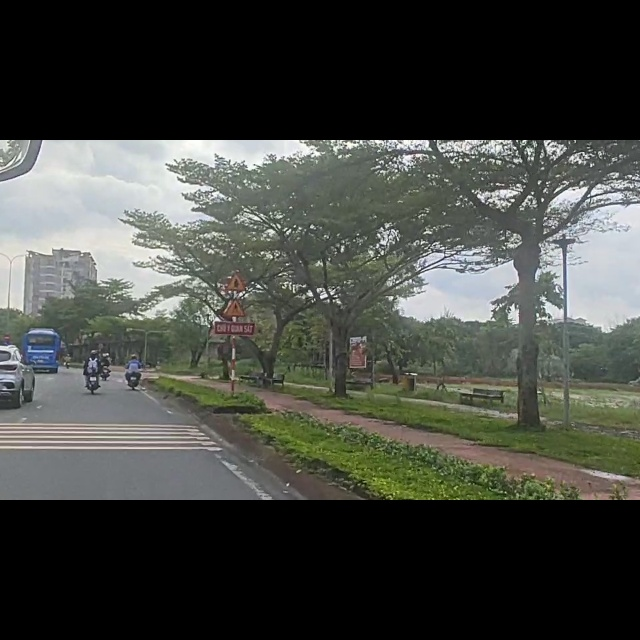bien_nguy_hiem: (221, 275, 250, 318), (224, 231, 249, 273)
